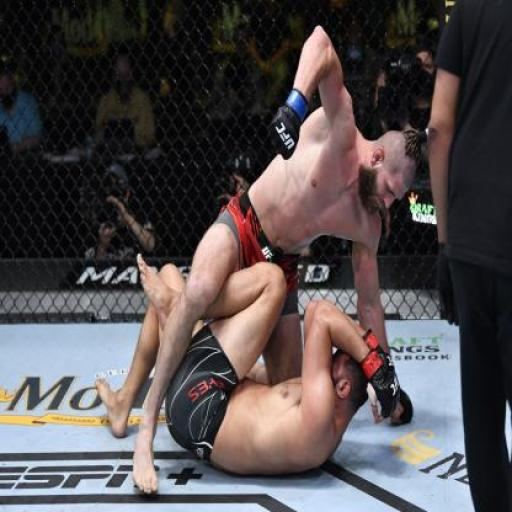Fighting: (99, 20, 418, 502)
